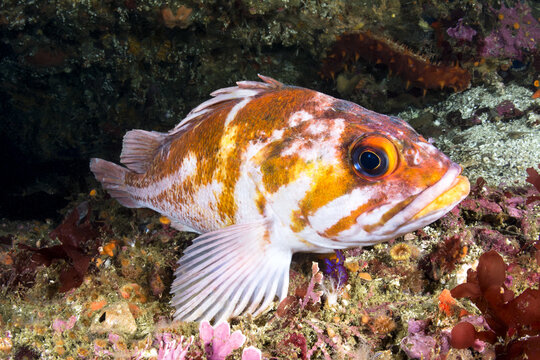Rock Fish: (53, 63, 497, 329)
